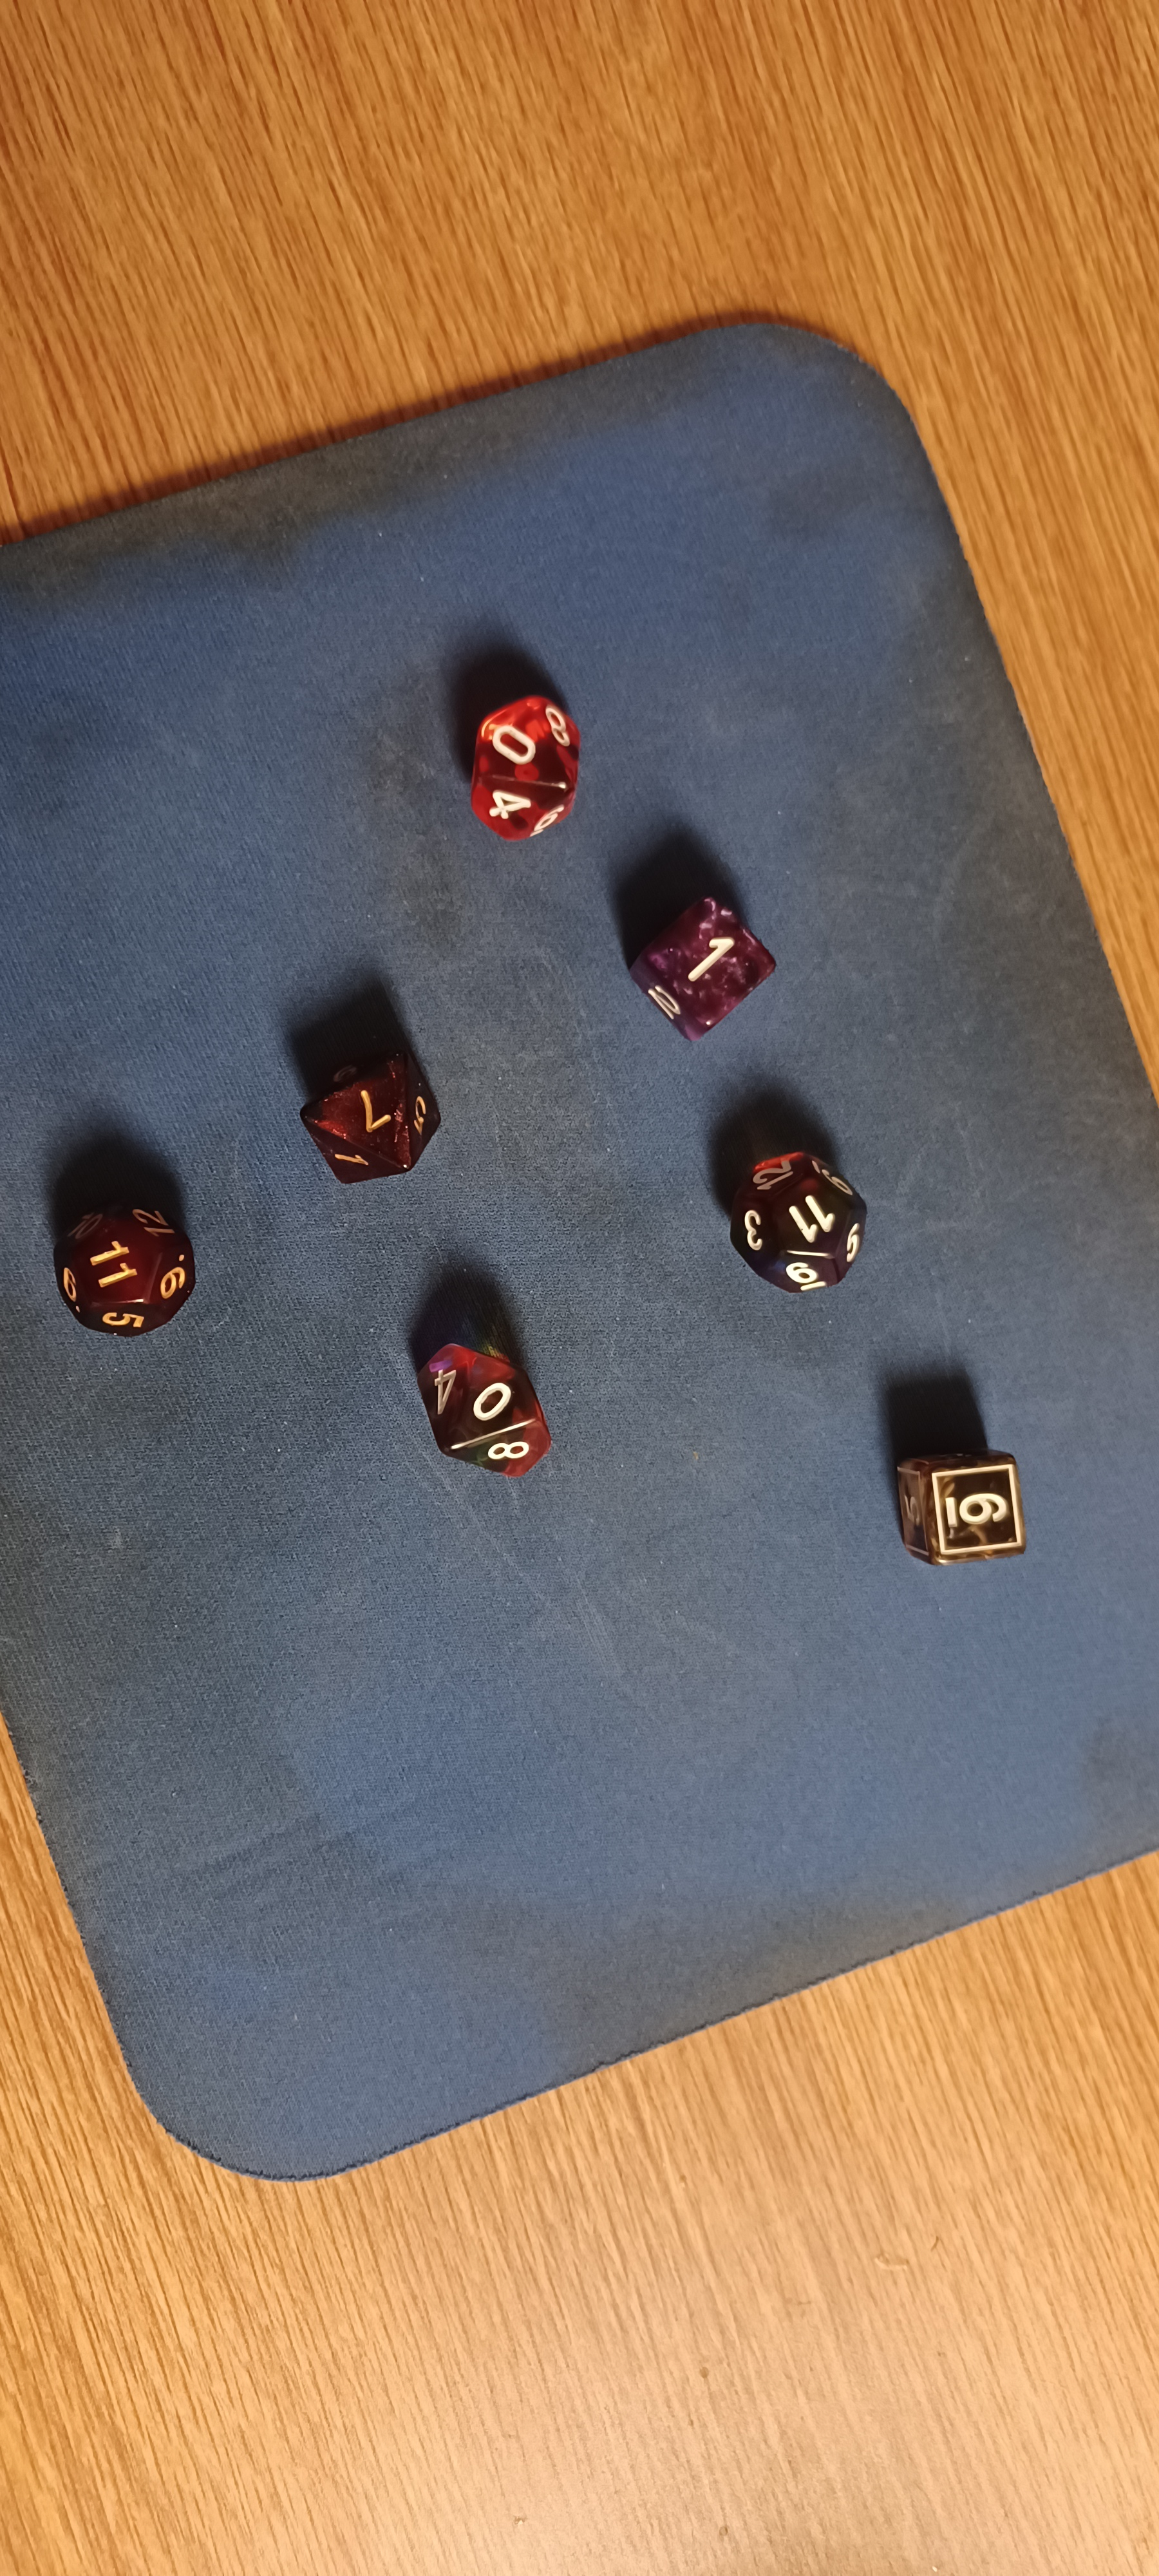eleven: (689, 1119, 911, 1321), (30, 1170, 208, 1344)
one: (602, 876, 801, 1038)
seven: (281, 1007, 471, 1206)
six: (877, 1423, 1049, 1576)
zero: (384, 1313, 566, 1495), (432, 660, 601, 848)
